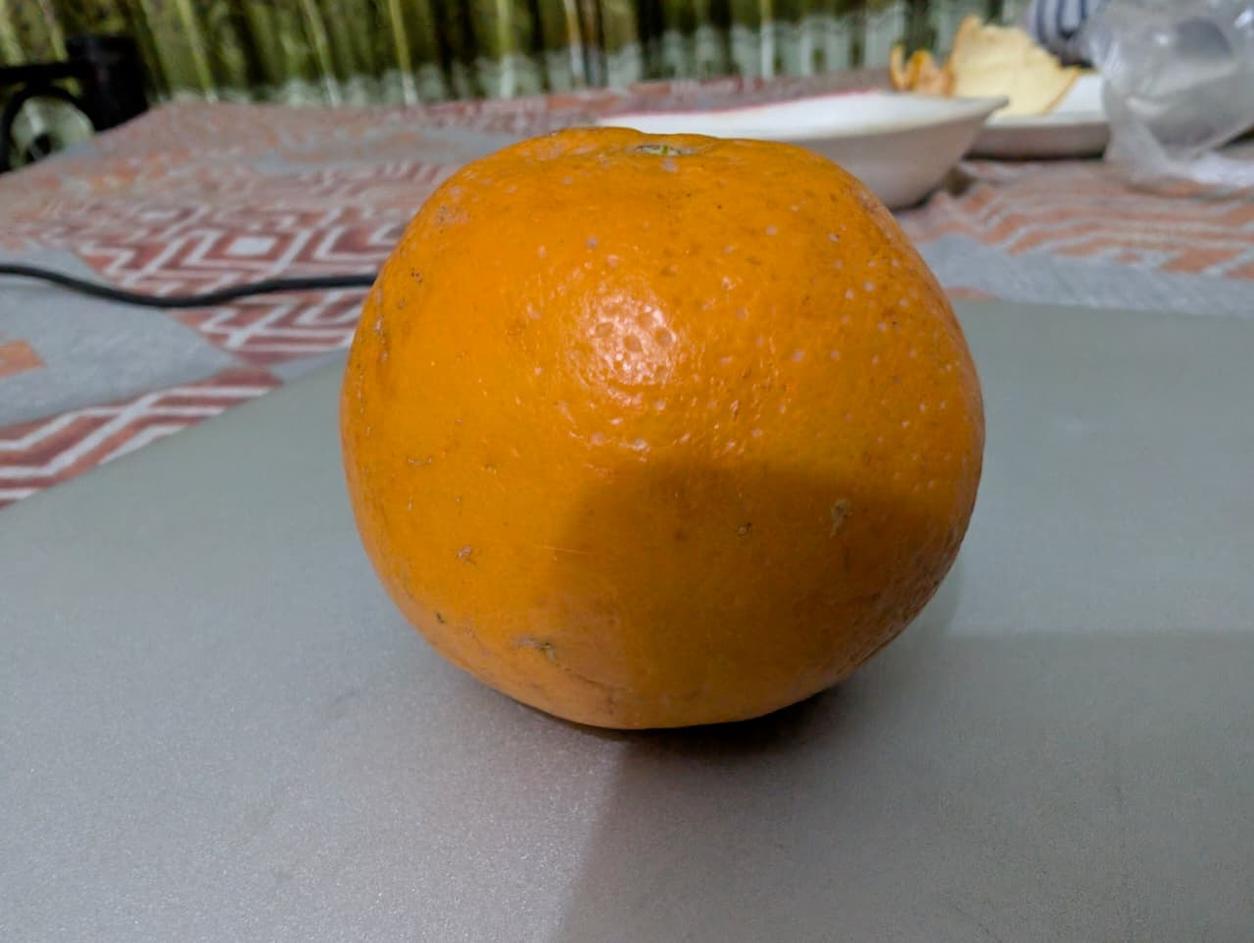orange: (286, 147, 1095, 810)
